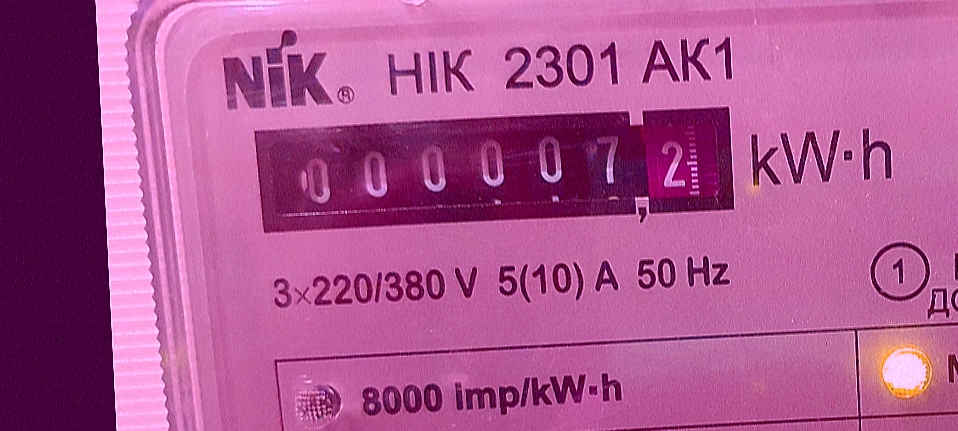0: (353, 145, 390, 198), (529, 131, 564, 185), (472, 133, 505, 188), (414, 139, 447, 193), (297, 152, 331, 204)
2: (653, 137, 686, 189)
7: (588, 130, 620, 186)
screen: (232, 85, 752, 252)
